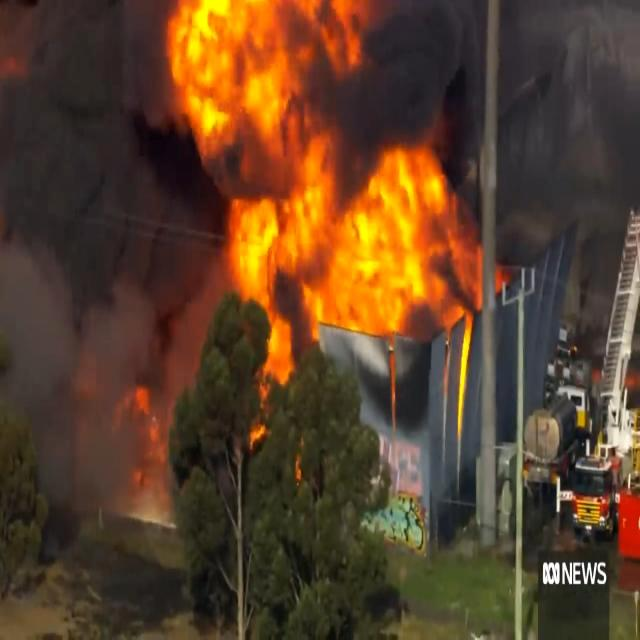fire: (166, 2, 454, 414)
